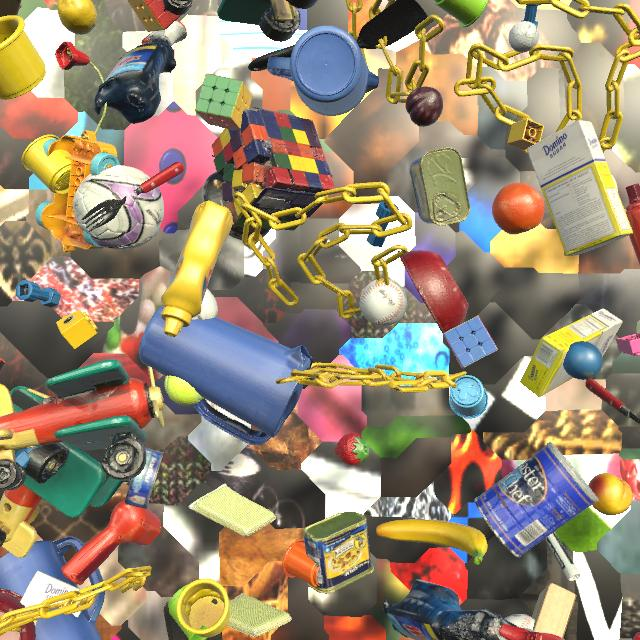ycb_002_master_chef_can: (475, 442, 599, 558)
ycb_004_sugar_box: (527, 120, 633, 256), (520, 308, 623, 398), (20, 571, 81, 626)
ycb_006_mustard_bottle: (161, 201, 233, 337)
ycb_007_tuna_fish_can: (125, 448, 164, 510)
ycb_010_potted_meat_can: (303, 512, 374, 594), (409, 147, 470, 226)
ycb_011_banana: (376, 519, 487, 565)
ycb_012_strawberry: (335, 432, 369, 465)
ycb_014_lemon: (57, 0, 97, 35)
ycb_015_peach: (588, 473, 633, 515)
ycb_017_orange: (492, 183, 545, 235)
ycb_018_plum: (405, 87, 443, 127)
